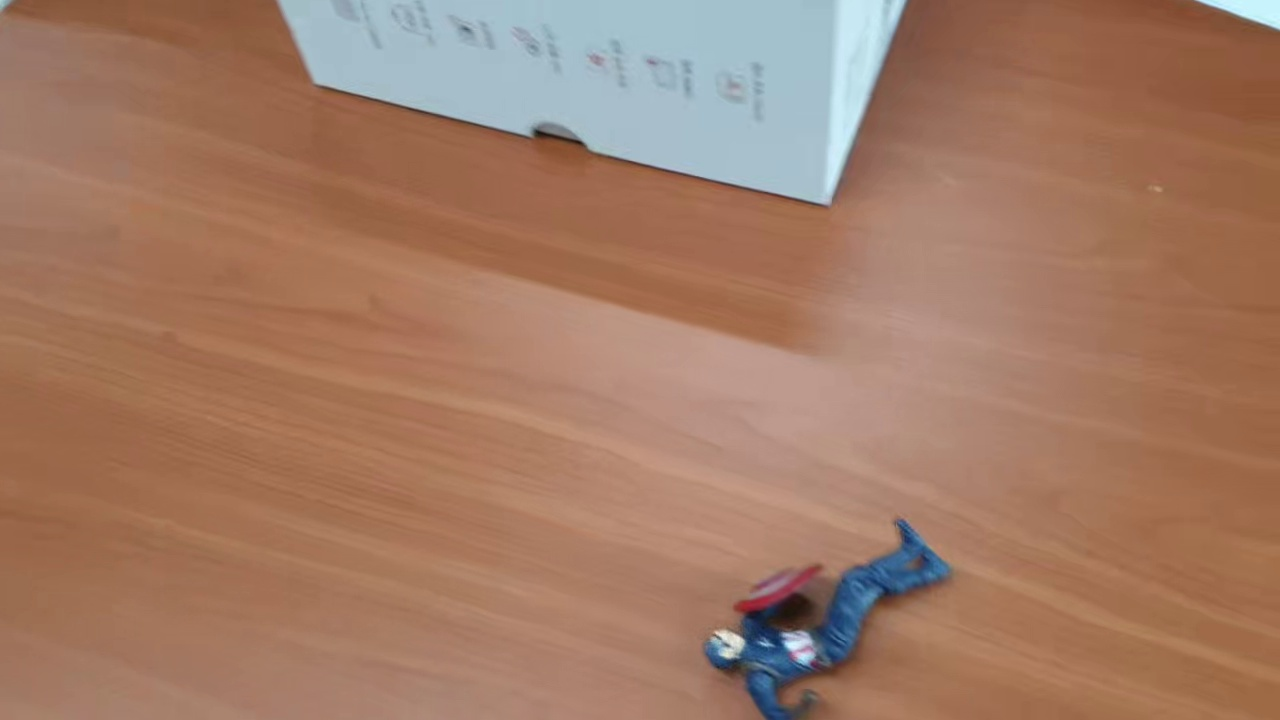people: (700, 515, 956, 720)
